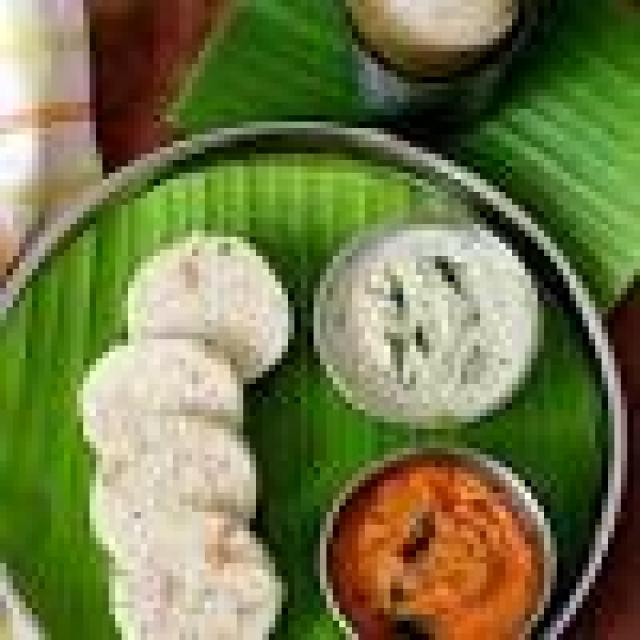Wet Waste: (294, 205, 538, 422), (83, 397, 275, 557), (96, 492, 294, 634), (115, 224, 282, 378), (77, 320, 243, 474)
